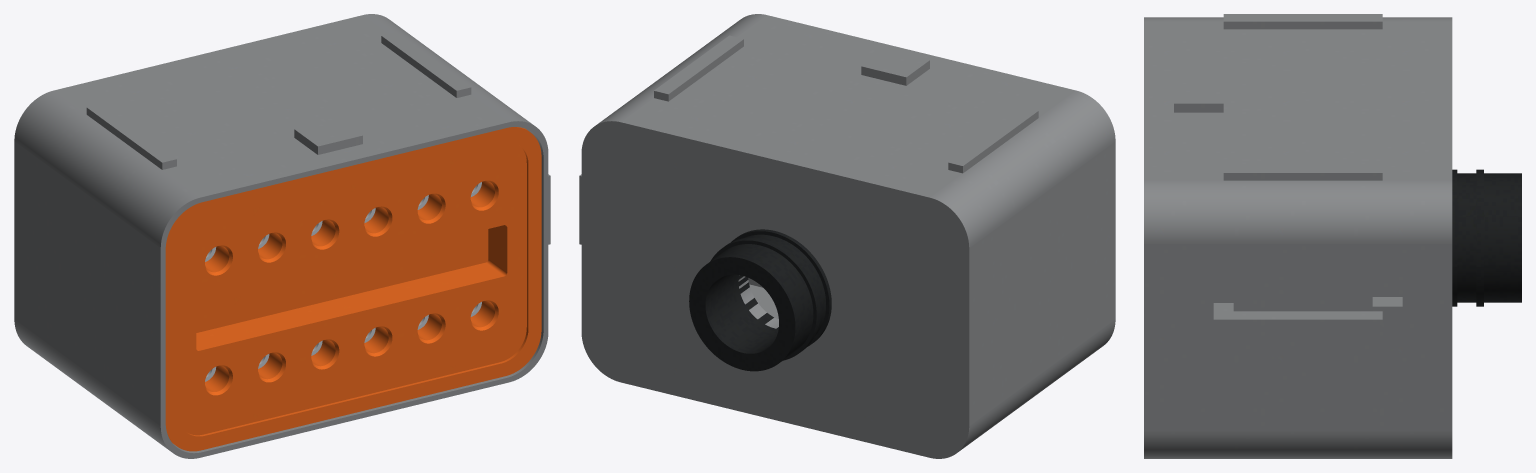
Rendered from connector-12-pin-ligero.glb.
3 views of the same model, side by side, from view 1: azimuth 30°, elevation 25°; view 2: azimuth 150°, elevation 25°; view 3: azimuth 270°, elevation 25° (orthographic). The views are drawn at different scales.
Visible parts, largest first — view 1: Deutsch_DT_12_Receptacle; view 2: Deutsch_DT_12_Receptacle; view 3: Deutsch_DT_12_Receptacle.
Boxes of the visible parts, bbox=[...] form: Deutsch_DT_12_Receptacle: bbox=[14, 14, 550, 458]; Deutsch_DT_12_Receptacle: bbox=[579, 14, 1115, 458]; Deutsch_DT_12_Receptacle: bbox=[1144, 14, 1521, 458].
Bounding box in the file's own units: 0.0517 × 0.0314 × 0.038.
4 materials, 4 textured.
